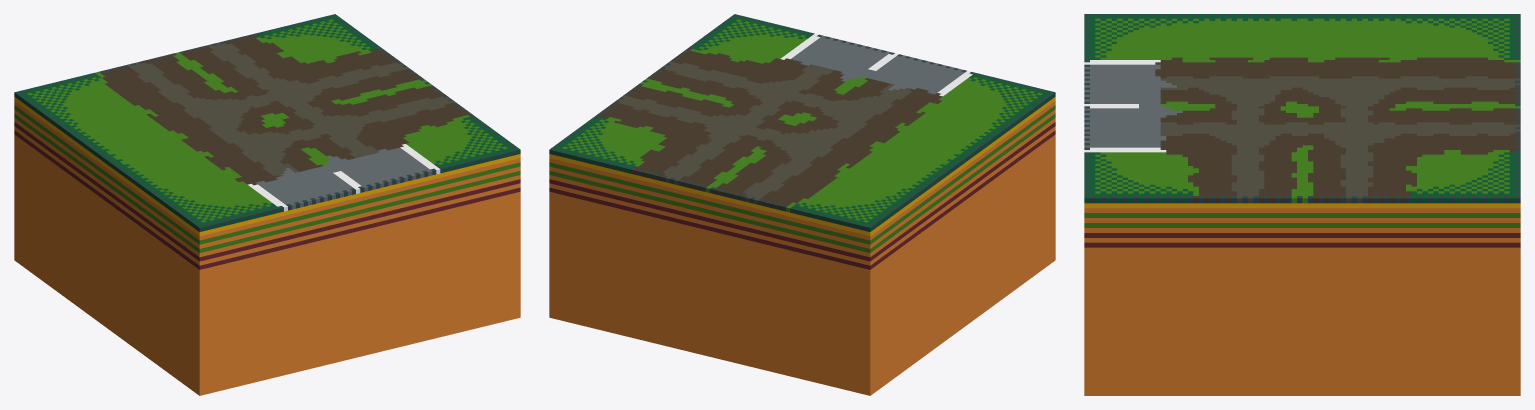
The model's file is road_transition_4_tile.obj.
3 renders of one model, left to right at view 1: azimuth 30°, elevation 25°; view 2: azimuth 150°, elevation 25°; view 3: azimuth 270°, elevation 25°, orthographic. The views are drawn at different scales.
Bounding box in the file's own units: 8 × 4 × 8.
Materials: 1 (1 with a texture image).
